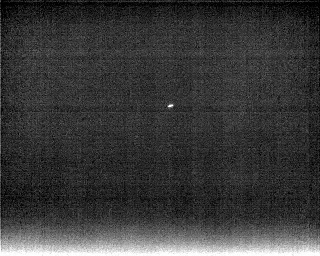BIRD: (166, 101, 175, 110)
